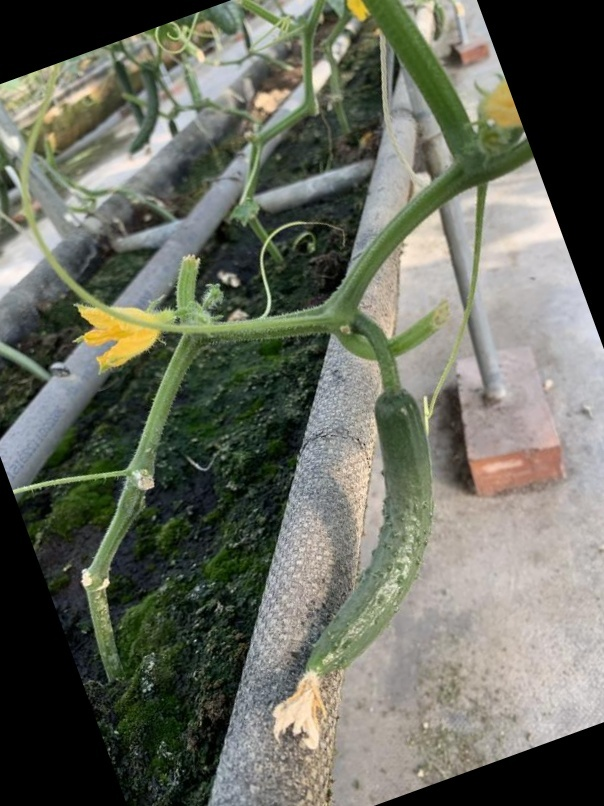bud: (68, 290, 158, 376)
growth: (253, 384, 450, 736)
